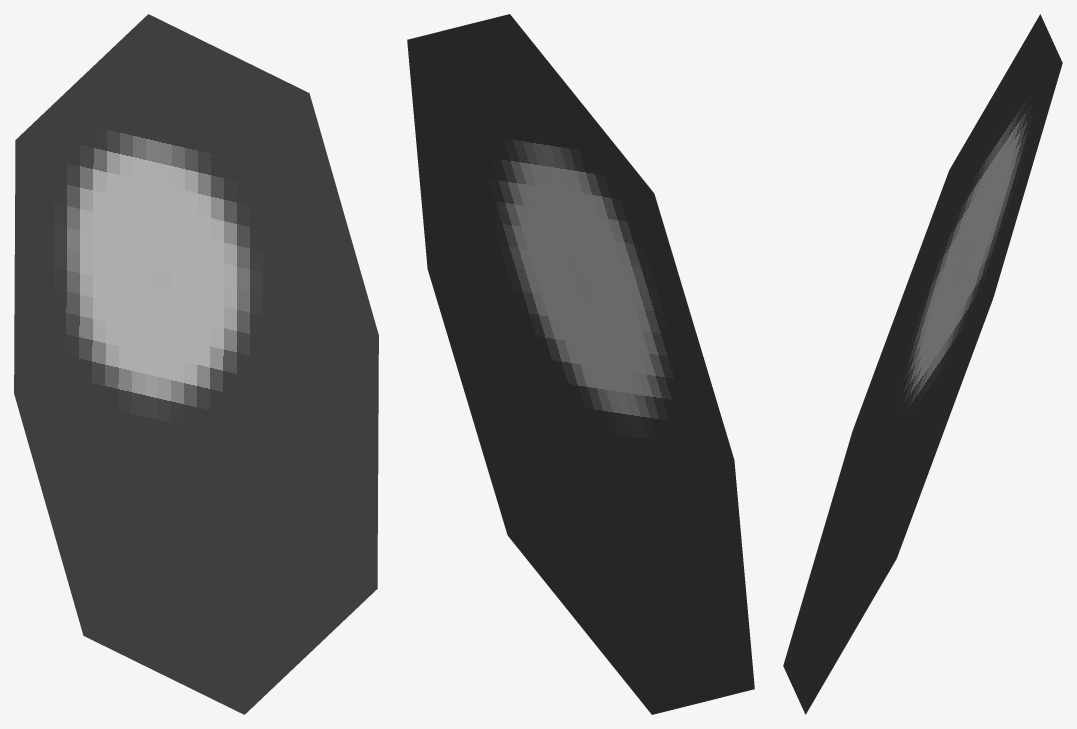
File: Eye.fbx
3 renders of one model, left to right at view 1: azimuth 30°, elevation 25°; view 2: azimuth 150°, elevation 25°; view 3: azimuth 270°, elevation 25°, orthographic. The views are drawn at different scales.
Parts seen in each view (by area): view 1: Eye; view 2: Eye; view 3: Eye.
Boxes of the visible parts, x1,y1,x2,y2 form: Eye: (14,14,378,714); Eye: (407,14,754,714); Eye: (783,14,1062,714).
Bounding box in the file's own units: 22.72 × 44.72 × 16.07.
